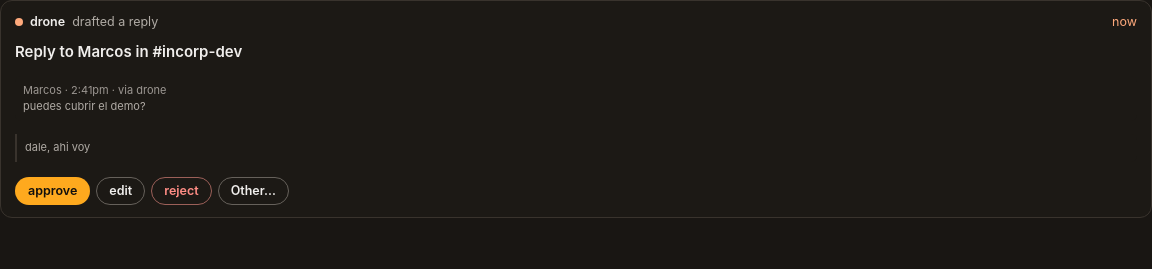
Test case: AskCard › meta.inbound › stays on screen while the draft is open for editing
Click the button "edit" at (121, 191), box [96,177,145,205]
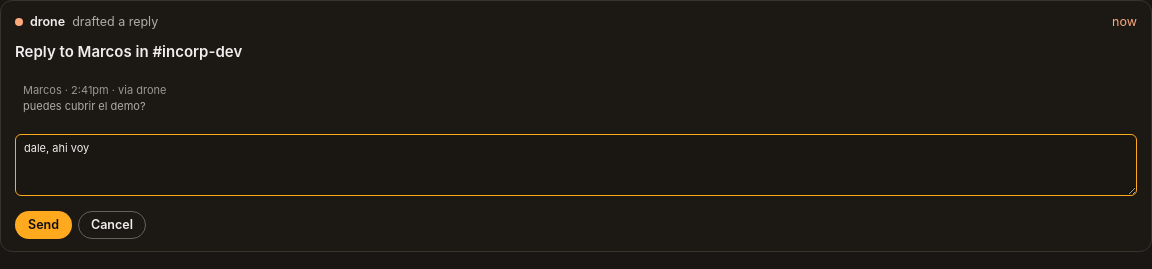
Expected: the text "puedes cubrir el demo?" is shown, [23,99,146,113]
Expected: the text box is shown, [15,134,1137,196]
